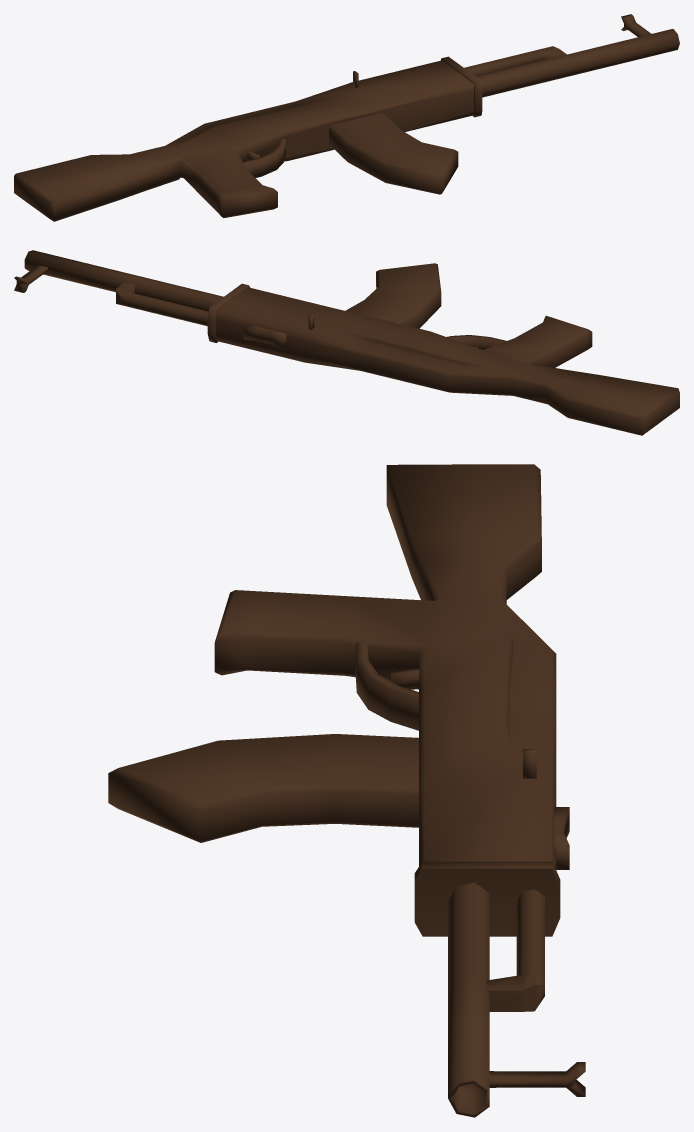
Rendered from AssaultRifle1.fbx.
3 views of the same model, one above another, from view 1: azimuth 30°, elevation 25°; view 2: azimuth 150°, elevation 25°; view 3: azimuth 270°, elevation 25° (orthographic). The views are drawn at different scales.
Visible parts, largest first — view 1: AssaultRifle1; view 2: AssaultRifle1; view 3: AssaultRifle1.
Part boxes in pixels (x1=…): AssaultRifle1: x1=14, y1=14, x2=679, y2=221; AssaultRifle1: x1=14, y1=250, x2=679, y2=435; AssaultRifle1: x1=108, y1=464, x2=585, y2=1117.
Size of the model in its own units: 0.6872 by 0.0481 by 0.225.
